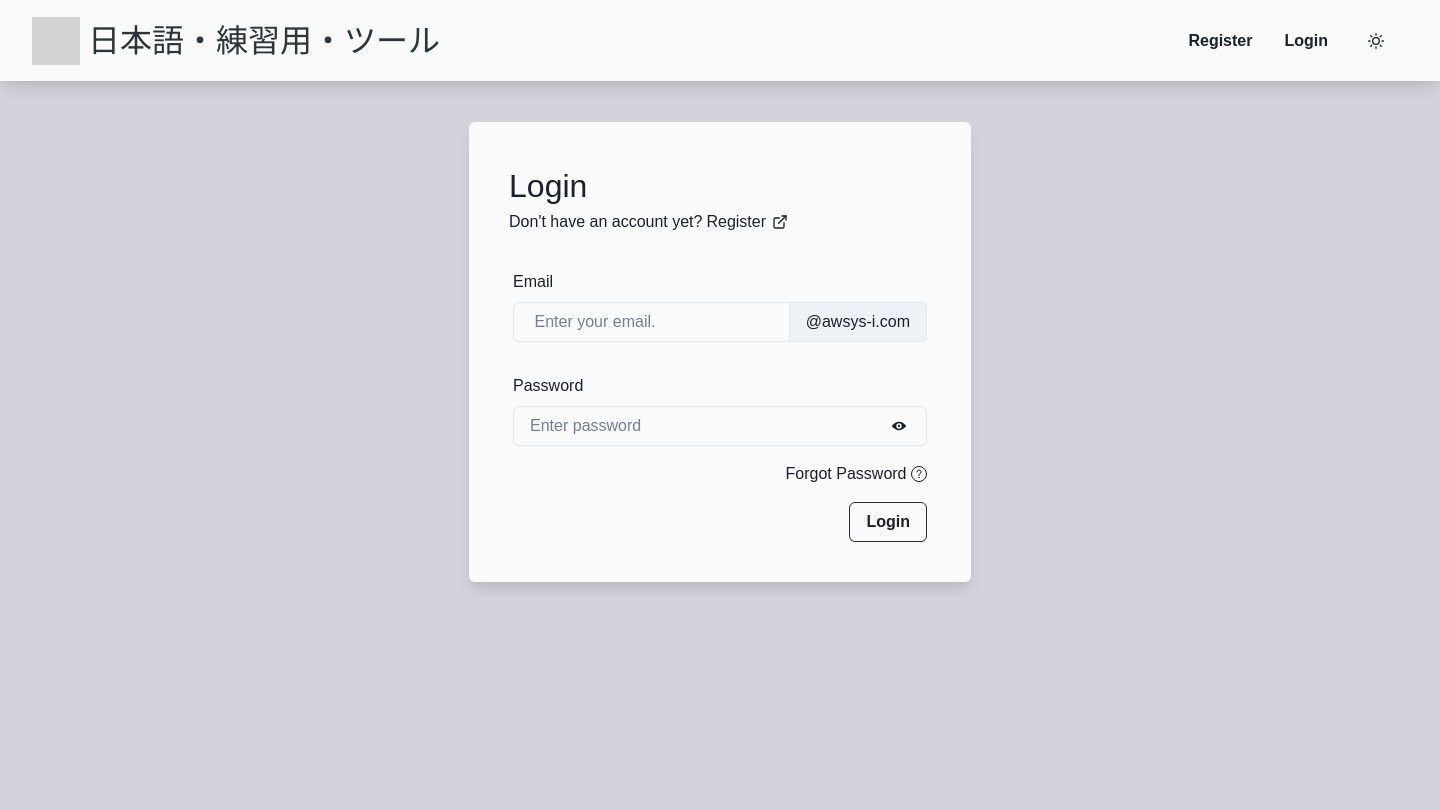
-------------- Unit Testing -------------- › VITEST_UT_LOGIN-200 Check if login form Show error alerts › VITEST_UT_LOGIN-203 Should Show popup alert on email field if login button pressed without input in password field
Type "palceholder" into the field with placeholder "Enter your email." at [651, 322], box [513,302,790,342]
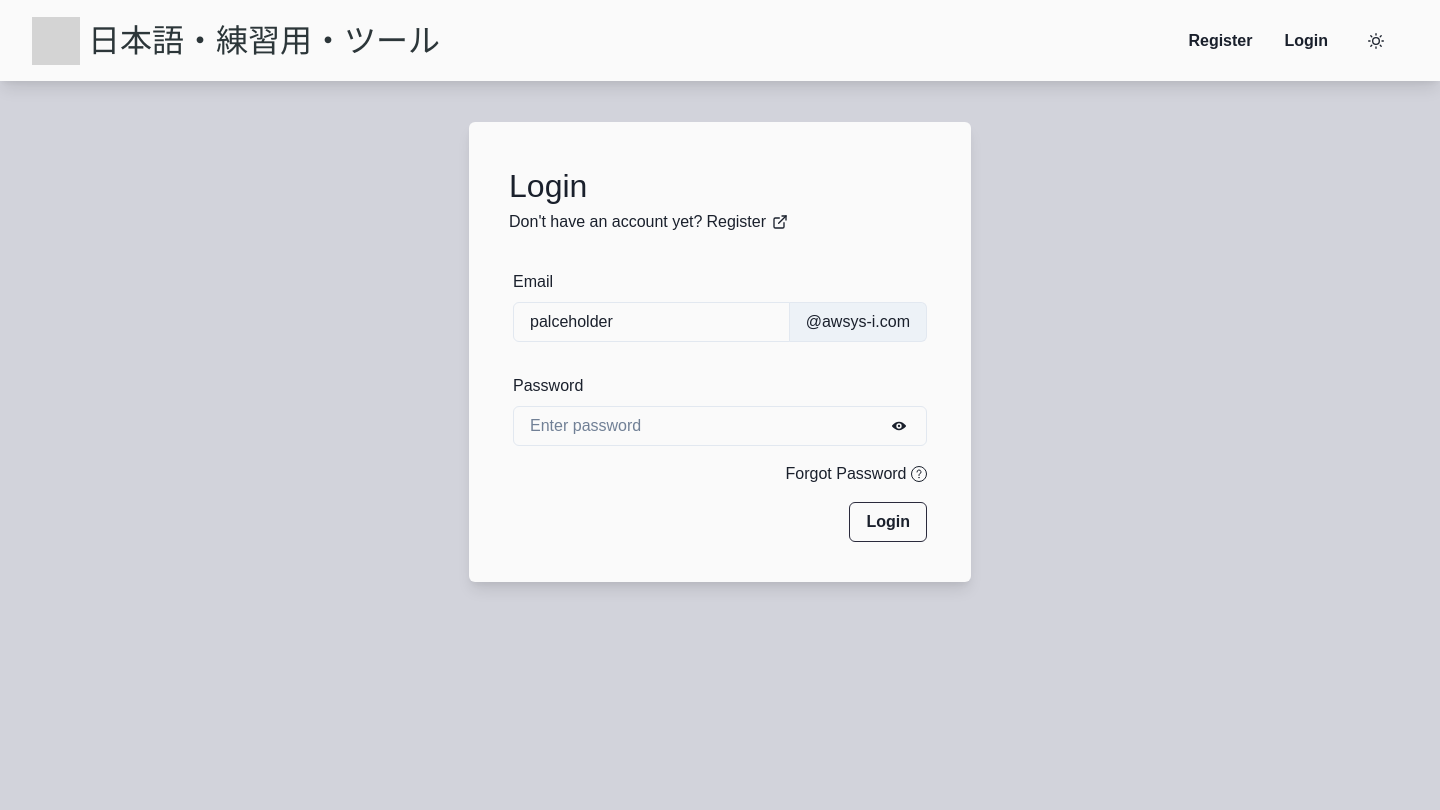
Click the button with test id "login-button" at [888, 522], box [849,502,927,542]
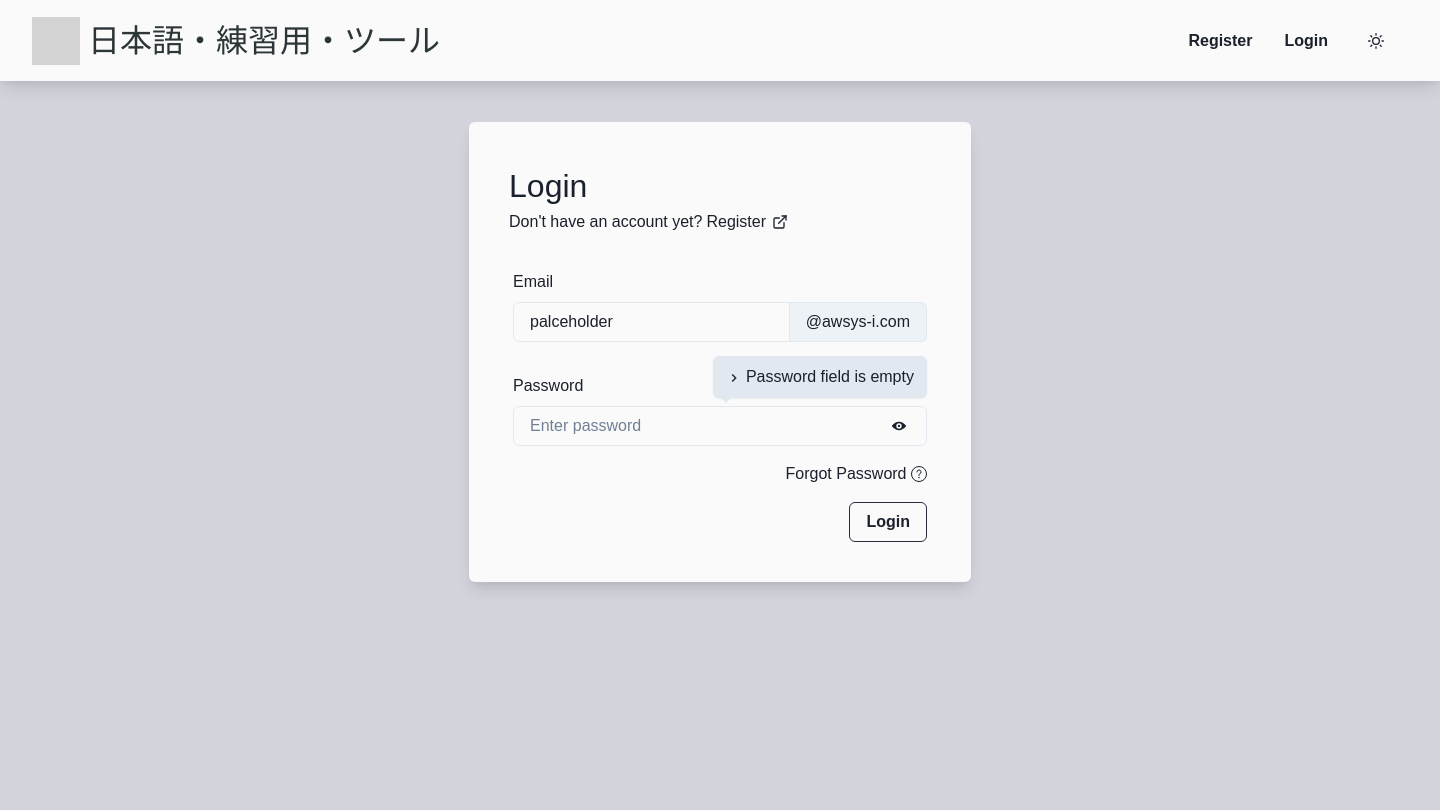
Expected: the text "Password field is empty" is shown, [726,368,914,386]
